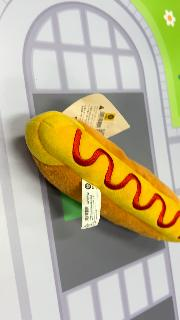hotdog: (24, 110, 180, 244)
